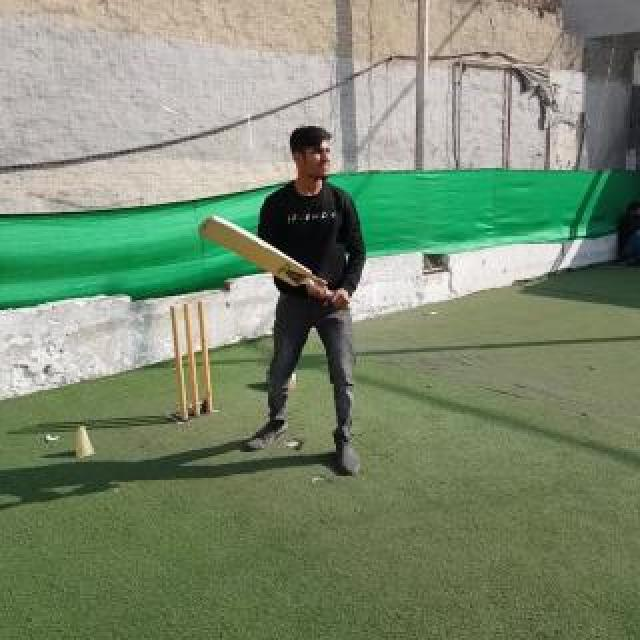bat: (198, 214, 352, 310)
